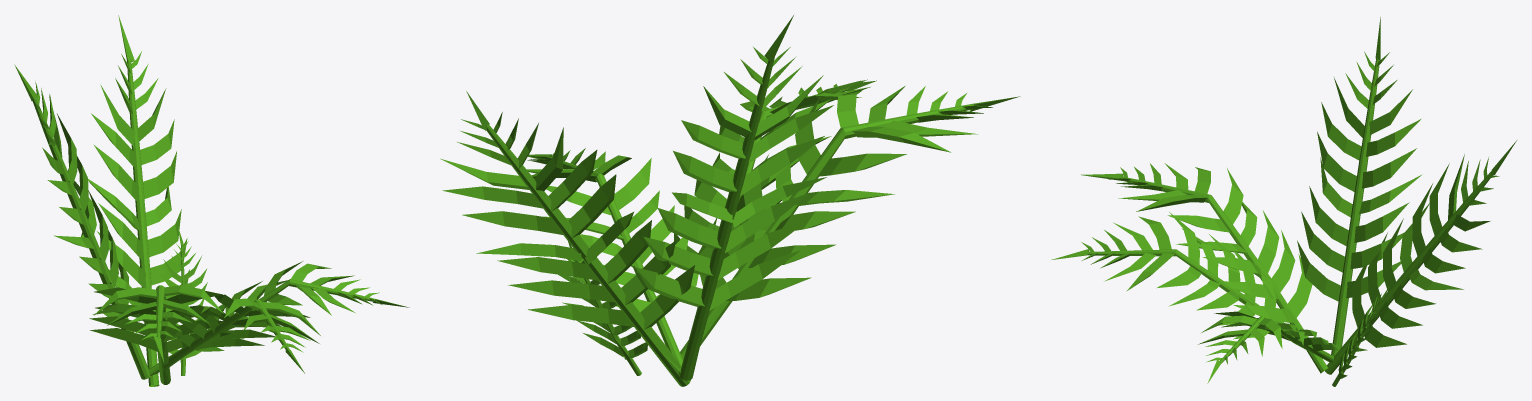
File: Isl_12_Fern_2.fbx
3 renders of one model, left to right at view 1: azimuth 30°, elevation 25°; view 2: azimuth 150°, elevation 25°; view 3: azimuth 270°, elevation 25°, orthographic. The views are drawn at different scales.
Visible parts, largest first — view 1: Isl_12_Fern_2; view 2: Isl_12_Fern_2; view 3: Isl_12_Fern_2.
Boxes of the visible parts, x1,y1,x2,y2 form: Isl_12_Fern_2: (14, 15, 408, 386); Isl_12_Fern_2: (440, 15, 1020, 386); Isl_12_Fern_2: (1051, 17, 1516, 386).
Bounding box in the file's own units: 140 × 186 × 136.
Materials: 1 (1 with a texture image).
